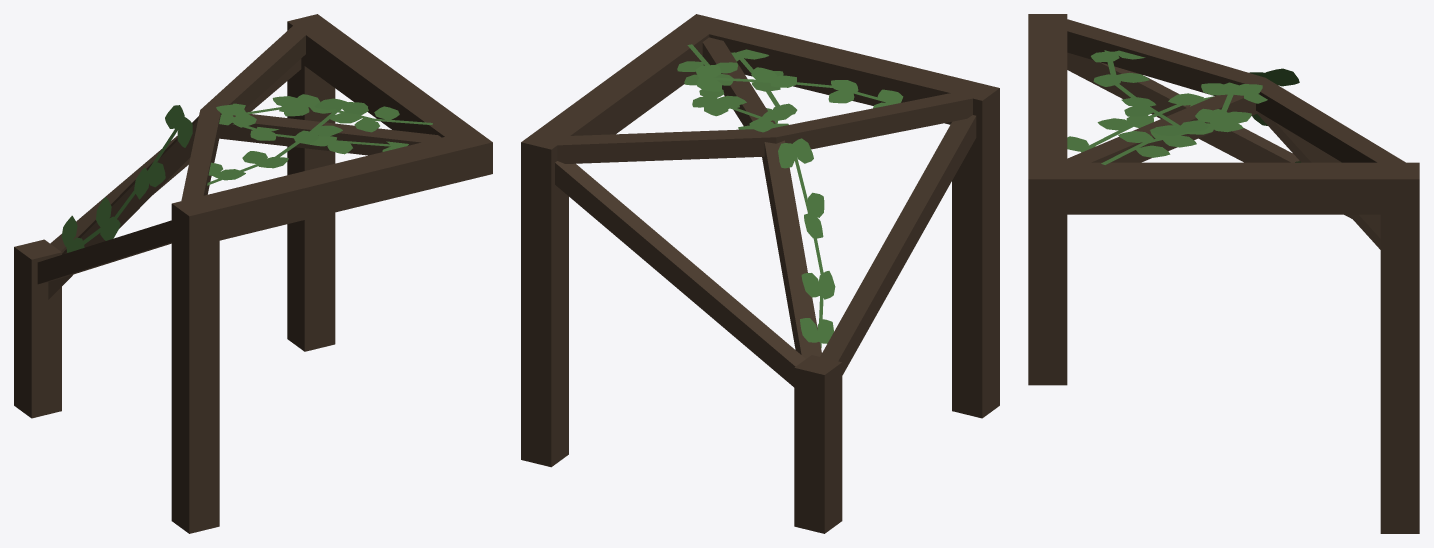
Rendered from A_WoodFrame01.fbx.
3 renders of one model, left to right at view 1: azimuth 30°, elevation 25°; view 2: azimuth 150°, elevation 25°; view 3: azimuth 270°, elevation 25°, orthographic. The views are drawn at different scales.
Visible parts, largest first — view 1: A_WoodFrame01; view 2: A_WoodFrame01; view 3: A_WoodFrame01.
Boxes of the visible parts, x1,y1,x2,y2 form: A_WoodFrame01: (14, 14, 492, 533); A_WoodFrame01: (521, 14, 999, 533); A_WoodFrame01: (1028, 14, 1419, 533).
Size of the model in its own units: 100 by 102 by 100.
